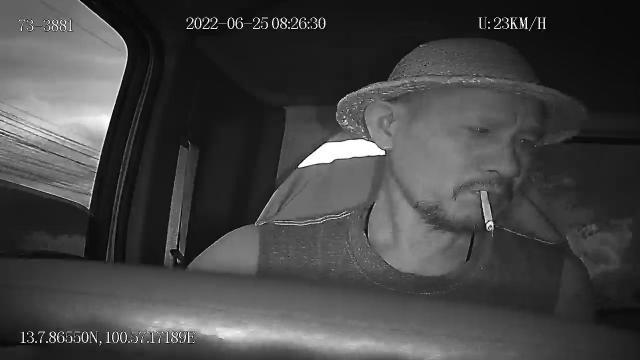Smoking: (480, 190, 494, 232)
